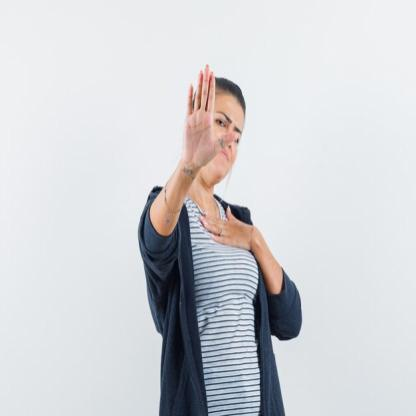stop: (180, 60, 238, 176)
